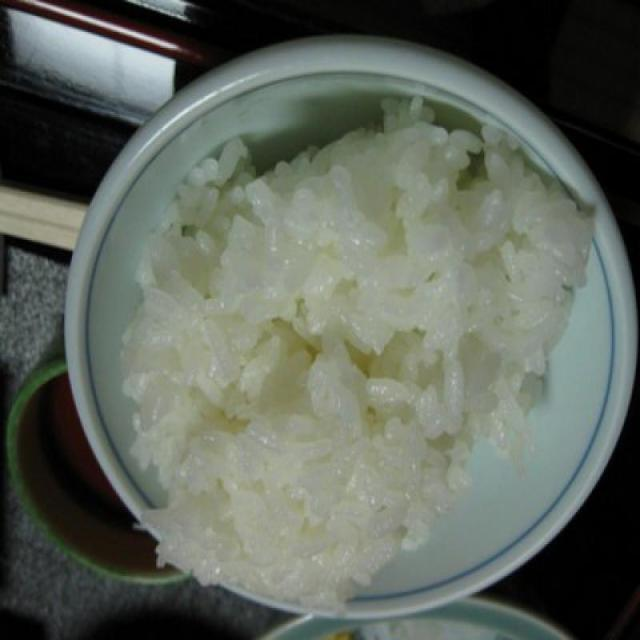nasi_putih: (123, 93, 599, 614)
